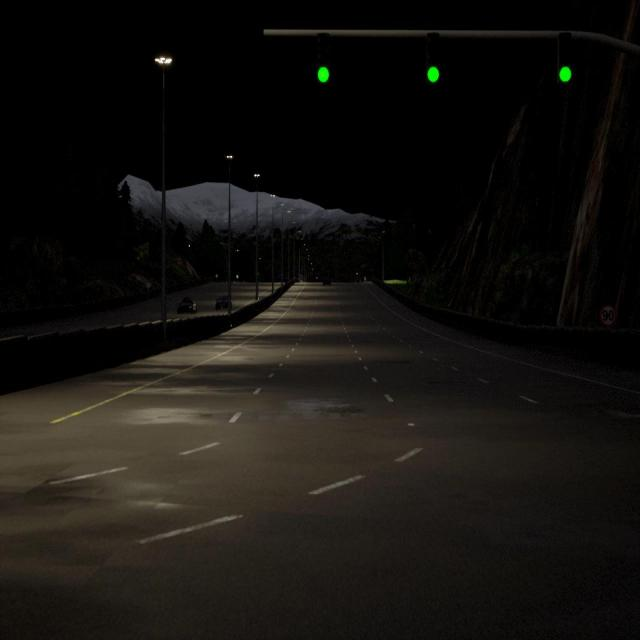Traffic_Signs: (600, 306, 616, 326), (146, 282, 151, 288)
Vehicle: (177, 296, 197, 314), (215, 295, 232, 310), (323, 277, 331, 286)
traffic_light: (558, 32, 572, 83), (317, 34, 330, 83), (427, 32, 439, 84)
